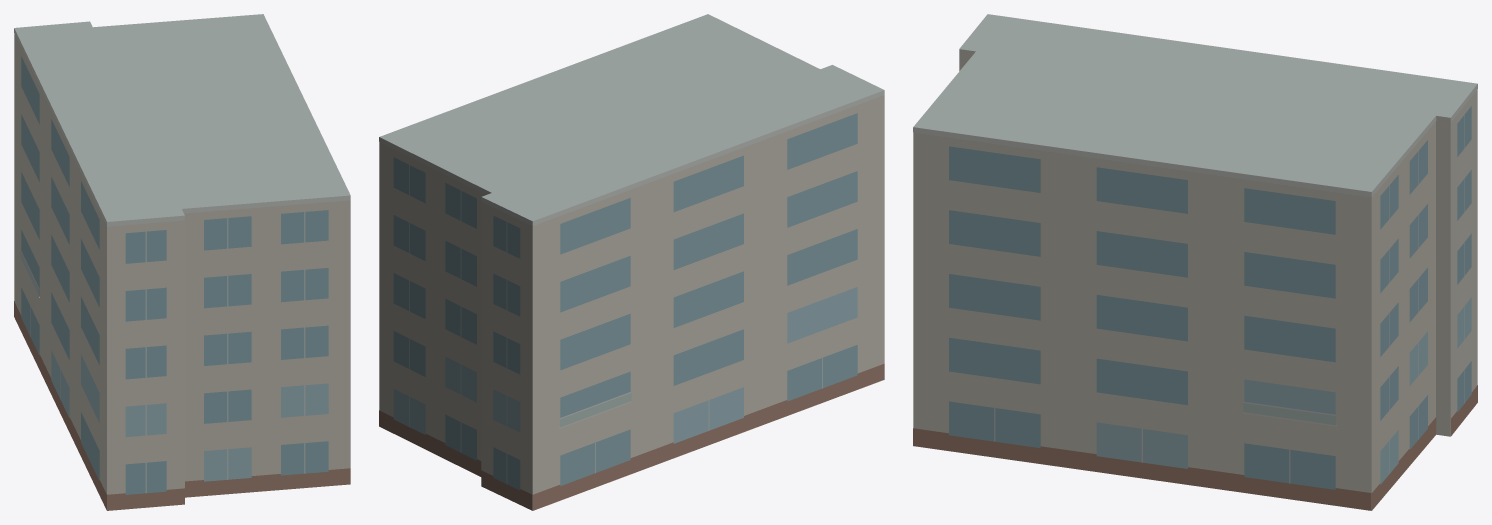
The model's file is survey-upis-32893900.glb.
The picture shows the model from 3 angles, left to right: view 1: azimuth 30°, elevation 25°; view 2: azimuth 150°, elevation 25°; view 3: azimuth 270°, elevation 25°; orthographic projection. The views are drawn at different scales.
Visible parts, largest first — view 1: survey-upis-32893900.tmp; view 2: survey-upis-32893900.tmp; view 3: survey-upis-32893900.tmp.
Part boxes in pixels (bbox=[...]): survey-upis-32893900.tmp: bbox=[14, 14, 350, 510]; survey-upis-32893900.tmp: bbox=[379, 14, 884, 510]; survey-upis-32893900.tmp: bbox=[913, 14, 1477, 510].
Bounding box in the file's own units: 17.55 × 14.65 × 23.52.
